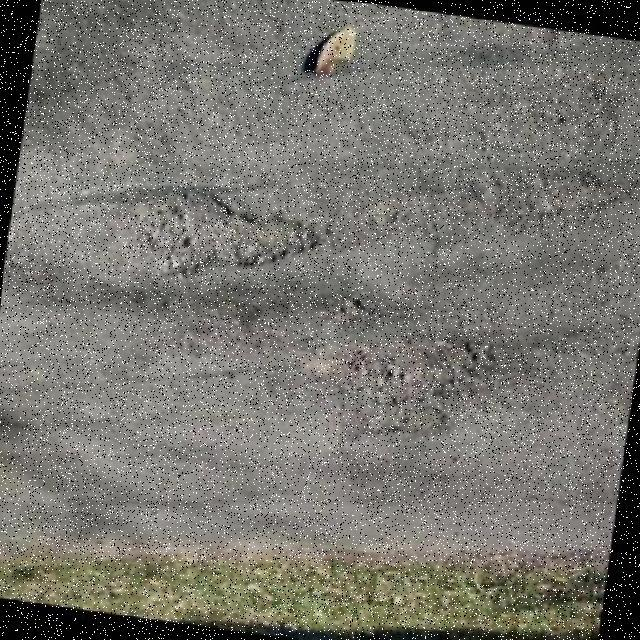Pothole: (374, 165, 628, 256), (323, 339, 494, 445), (118, 187, 318, 274), (518, 67, 640, 154)
